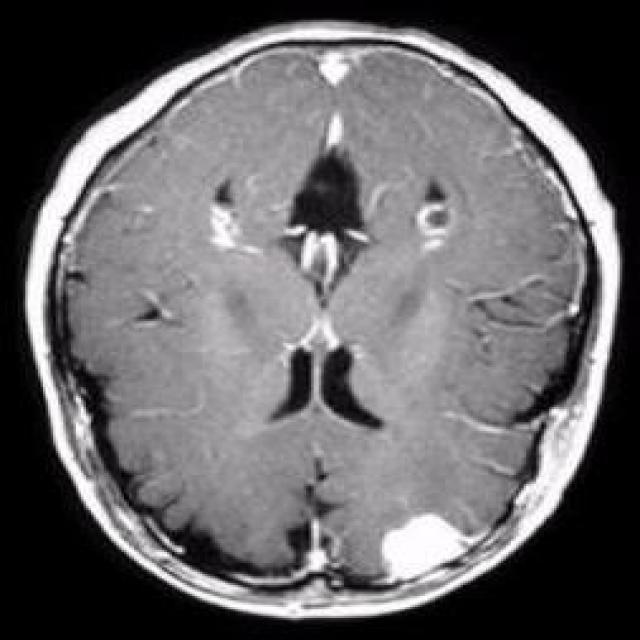Tumor: (366, 500, 485, 596), (198, 182, 262, 287)
